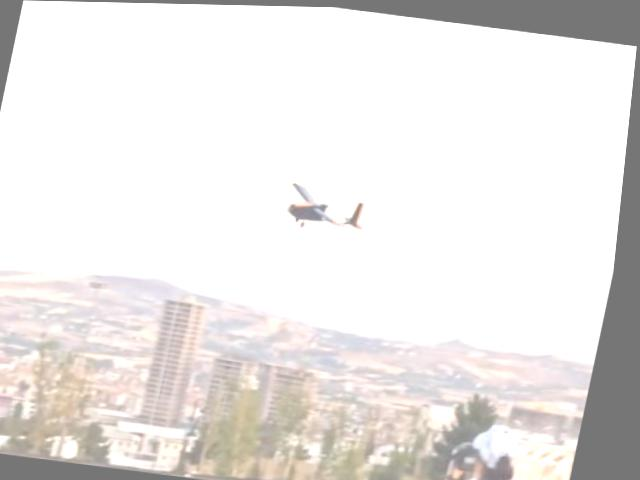uav: (275, 172, 386, 240)
